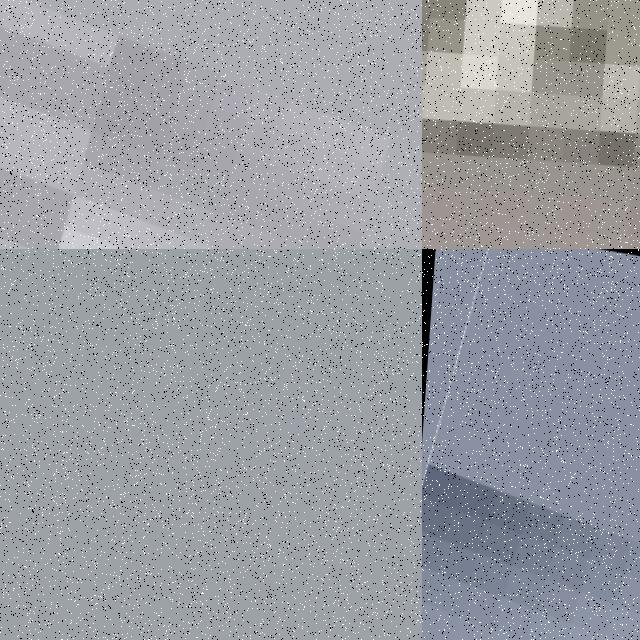drone: (0, 0, 422, 249), (422, 249, 640, 640)
